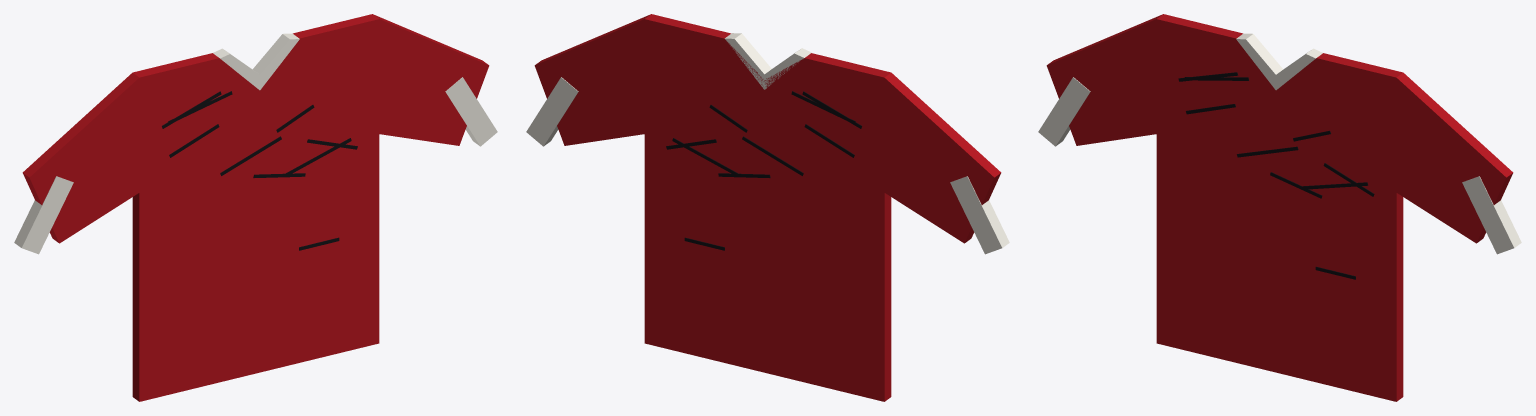
Rendered from signed-shirt.glb.
The picture shows the model from 3 angles, left to right: view 1: azimuth 30°, elevation 25°; view 2: azimuth 150°, elevation 25°; view 3: azimuth 330°, elevation 25°; orthographic projection.
Parts seen in each view (by area): view 1: signed_shirt; view 2: signed_shirt; view 3: signed_shirt.
Part boxes in pixels (bbox=[...]): signed_shirt: bbox=[14, 14, 497, 401]; signed_shirt: bbox=[526, 14, 1009, 401]; signed_shirt: bbox=[1038, 14, 1521, 401].
Bounding box in the file's own units: 0.4763 × 0.312 × 0.0138.
